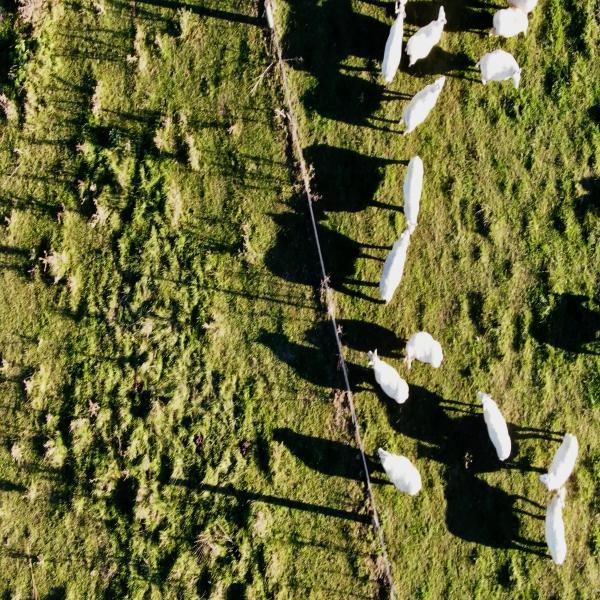sheep: (398, 73, 446, 137), (404, 5, 448, 69), (476, 391, 512, 463), (379, 228, 411, 306), (367, 348, 410, 405), (539, 430, 579, 491), (378, 446, 423, 498), (380, 3, 406, 84), (476, 51, 522, 91), (545, 487, 567, 565), (403, 331, 444, 372), (403, 156, 424, 235), (488, 7, 528, 41), (500, 0, 537, 15), (393, 0, 414, 9)
